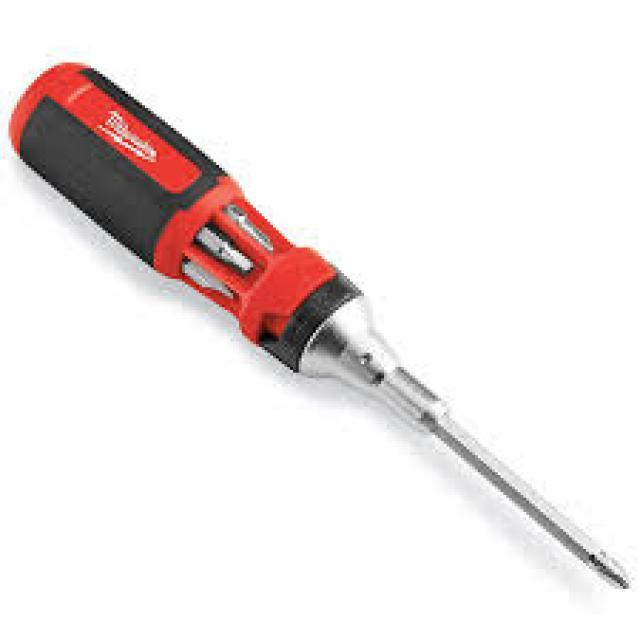screwdriver: (11, 52, 632, 594)
